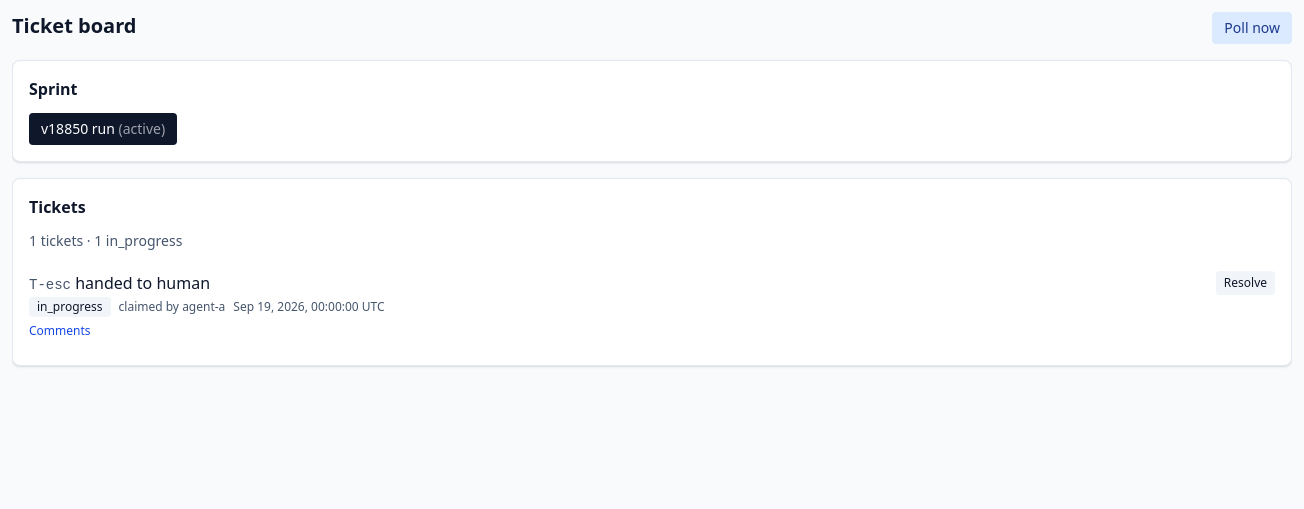
Test case: BoardPage comments › expands a ticket's escalation comments on demand
Click the button "Comments": (60, 331) [29,323,91,339]
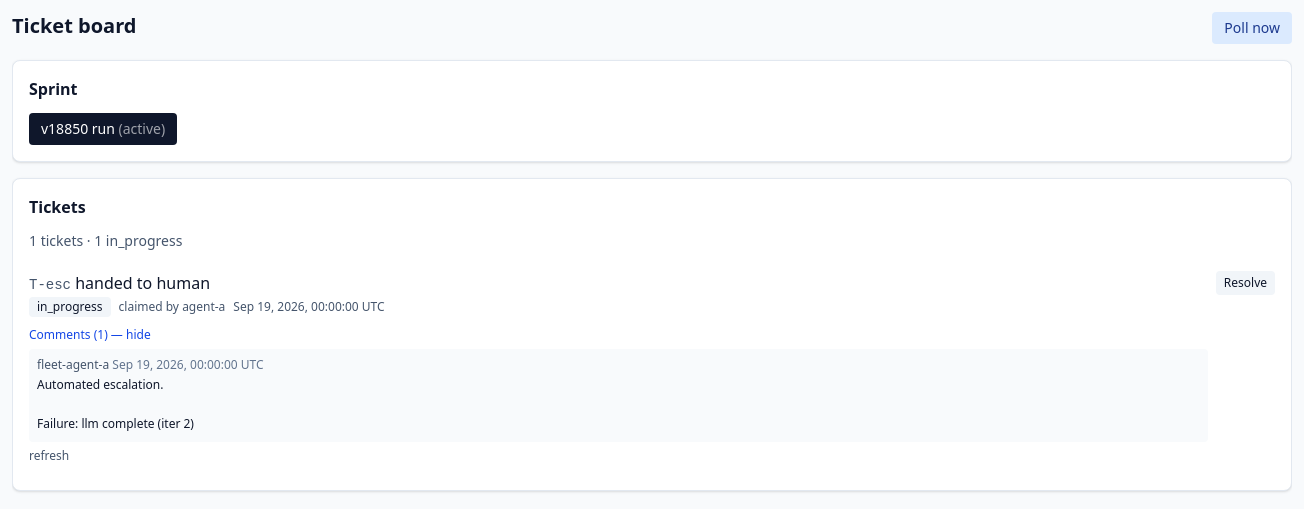
Result: the text "Automated escalation. Failure: llm complete (iter 2)" is shown at [37,376,194,432]
Result: the text "fleet-agent-a" is shown at [37,356,109,373]
